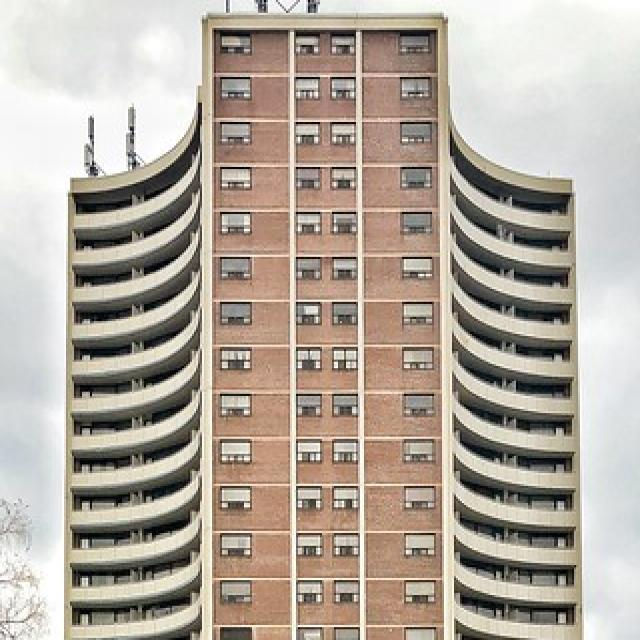Normal_building: (60, 8, 586, 640)
